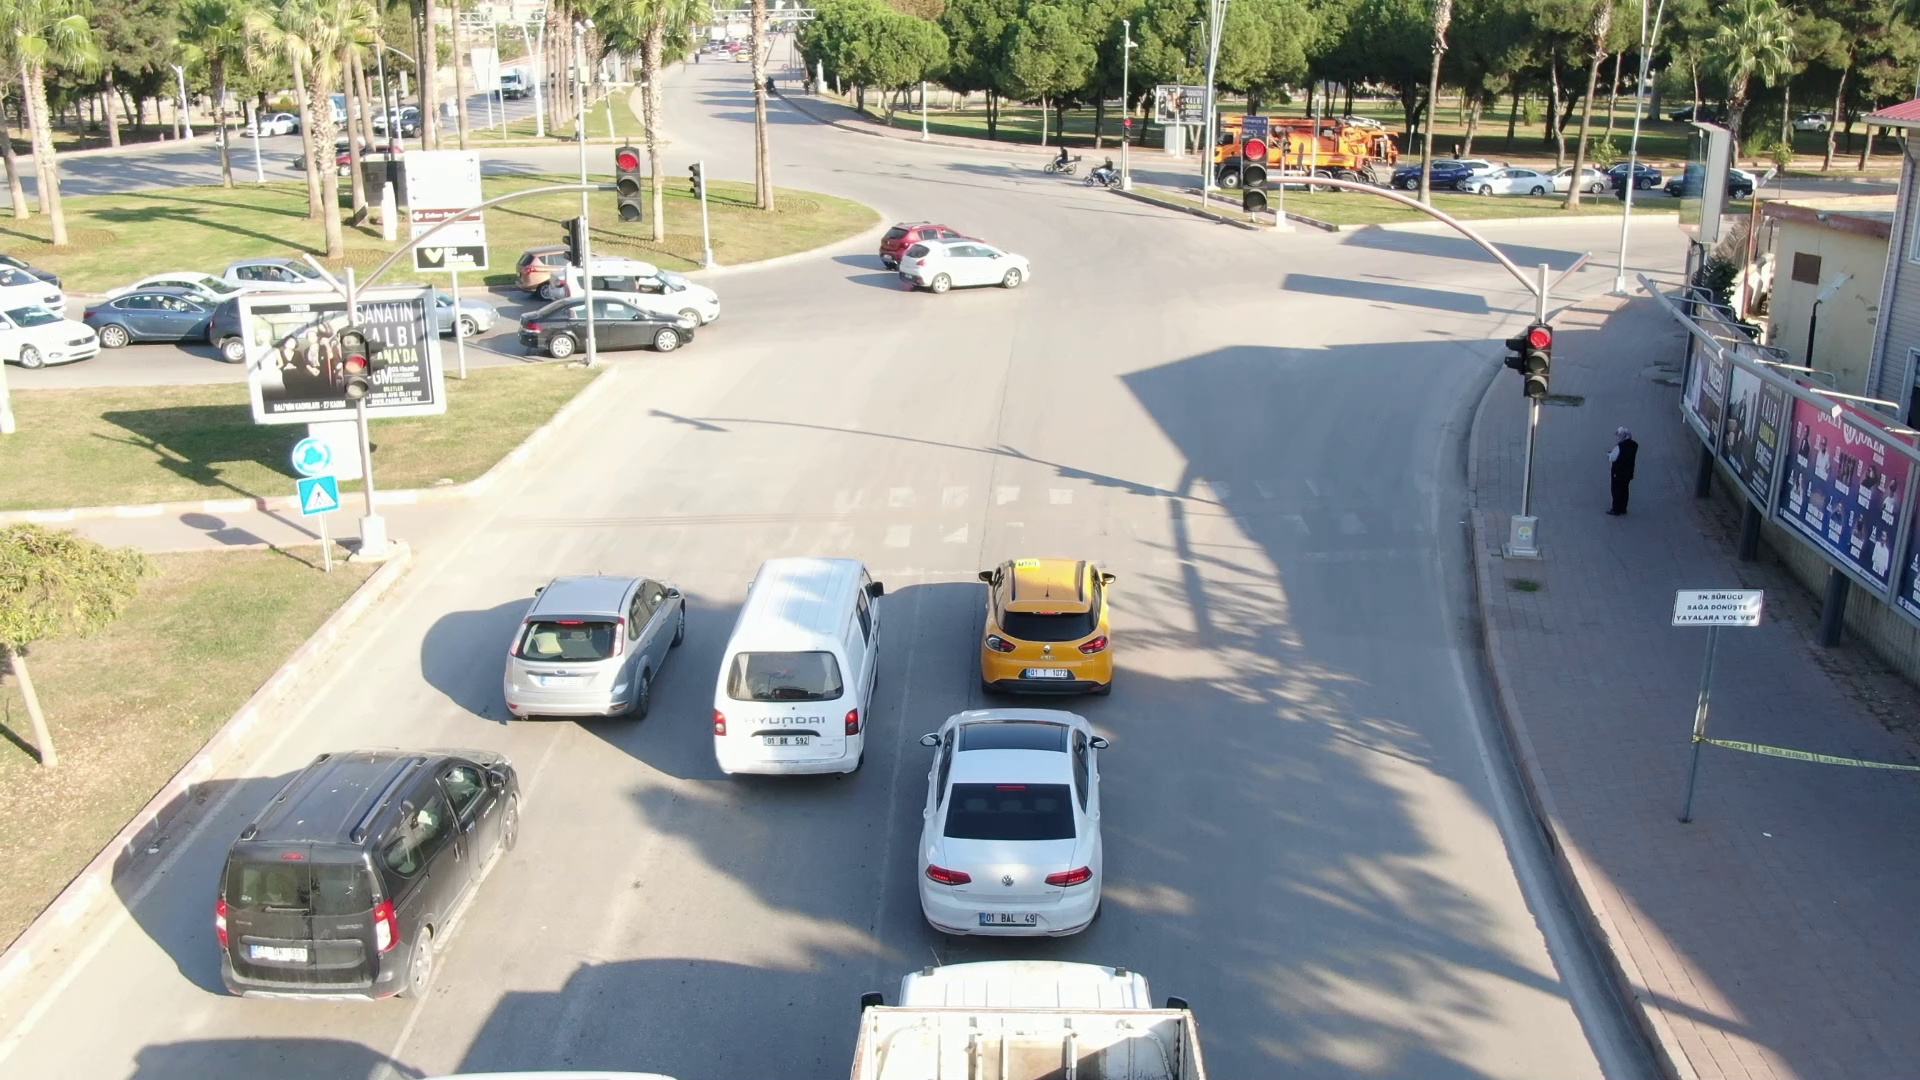car: (192, 745, 545, 1021), (884, 698, 1121, 965), (690, 555, 888, 802), (468, 547, 692, 749), (970, 527, 1131, 708), (894, 229, 1035, 300)
person: (1610, 425, 1643, 517)
